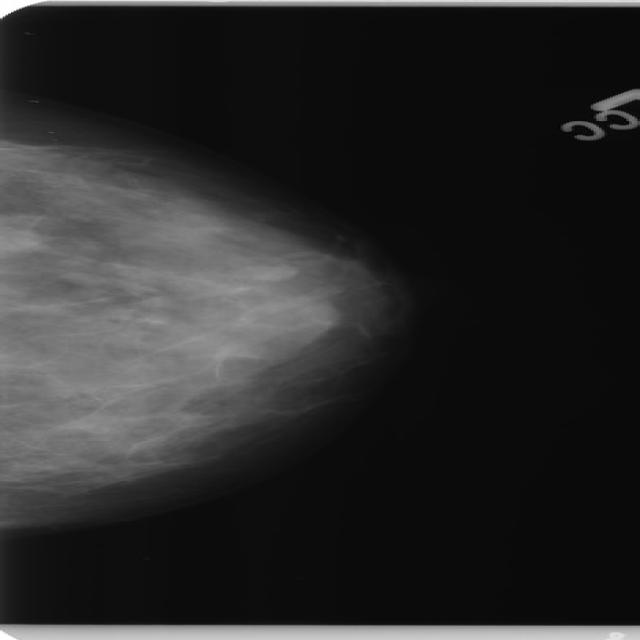tumour: (241, 262, 295, 281)
